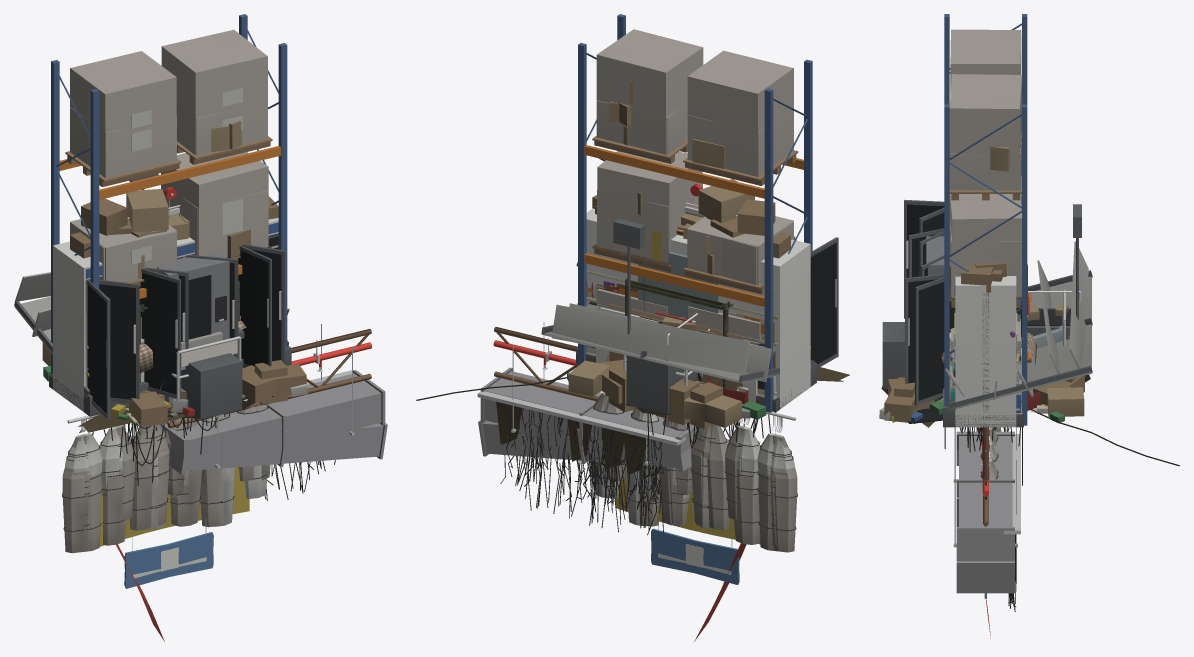
File: props.glb
The picture shows the model from 3 angles, left to right: view 1: azimuth 30°, elevation 25°; view 2: azimuth 150°, elevation 25°; view 3: azimuth 270°, elevation 25°; orthographic projection.
Parts seen in each view (by area): view 1: UF|ward|freezer_3, UF|ward|rack_9, UF|ward|rack_1, UF|ward|rack_8, UF|ward|rack_3, UF|ward|freezer_5, UF|ward|duct_31, UF|ward|hooks_9, UF|ward|duct_14, UF|ward|vending_1, UF|ward|freezer_1, UF|ward|duct_15 (+25 smaller); view 2: UF|ward|rack_9, UF|ward|rack_8, UF|ward|gondolax_24, UF|ward|rack_1, UF|ward|rack_3, UF|ward|freezer_3, UF|ward|hooks_9, UF|ward|duct_31, UF|ward|duct_15, UF|ward|rack_7, UF|ward|hooks_1, UF|ward|freezer_5 (+32 smaller); view 3: UF|ward|freezer_3, UF|ward|rack_1, UF|ward|gondolax_24, UF|ward|rack_8, UF|ward|rack_9, UF|ward|freezer_4, UF|ward|duct_15, UF|ward|rack_3, UF|ward|freezer_5, UF|ward|duct_14, UF|ward|duct_31, UF|ward|freezer_2 (+10 smaller).
Boxes of the visible parts, x1=… form: UF|ward|freezer_3: x1=53, y1=218, x2=284, y2=432; UF|ward|rack_9: x1=51, y1=14, x2=286, y2=374; UF|ward|rack_1: x1=51, y1=14, x2=287, y2=374; UF|ward|rack_8: x1=161, y1=29, x2=267, y2=155; UF|ward|rack_3: x1=70, y1=51, x2=250, y2=280; UF|ward|freezer_5: x1=86, y1=233, x2=278, y2=423; UF|ward|duct_31: x1=165, y1=324, x2=387, y2=474; UF|ward|hooks_9: x1=82, y1=406, x2=257, y2=530; UF|ward|duct_14: x1=162, y1=347, x2=385, y2=473; UF|ward|vending_1: x1=157, y1=252, x2=229, y2=403; UF|ward|freezer_1: x1=99, y1=245, x2=271, y2=367; UF|ward|duct_15: x1=162, y1=346, x2=385, y2=473; UF|ward|rack_9: x1=578, y1=14, x2=812, y2=412; UF|ward|rack_8: x1=596, y1=29, x2=724, y2=168; UF|ward|gondolax_24: x1=541, y1=303, x2=816, y2=386; UF|ward|rack_1: x1=578, y1=14, x2=812, y2=412; UF|ward|rack_3: x1=597, y1=50, x2=793, y2=314; UF|ward|freezer_3: x1=586, y1=208, x2=849, y2=409; UF|ward|hooks_9: x1=603, y1=397, x2=779, y2=529; UF|ward|duct_31: x1=478, y1=345, x2=693, y2=471; UF|ward|duct_15: x1=481, y1=323, x2=696, y2=464; UF|ward|rack_7: x1=597, y1=100, x2=793, y2=284; UF|ward|hooks_1: x1=639, y1=412, x2=797, y2=552; UF|ward|freezer_5: x1=810, y1=237, x2=838, y2=368; UF|ward|freezer_3: x1=915, y1=207, x2=1016, y2=427; UF|ward|rack_1: x1=944, y1=14, x2=1027, y2=425; UF|ward|gondolax_24: x1=879, y1=241, x2=1092, y2=427; UF|ward|rack_8: x1=949, y1=74, x2=1021, y2=190; UF|ward|rack_9: x1=944, y1=14, x2=1027, y2=424; UF|ward|freezer_4: x1=904, y1=200, x2=1016, y2=426; UF|ward|duct_15: x1=953, y1=431, x2=1017, y2=547; UF|ward|rack_3: x1=949, y1=29, x2=1021, y2=367; UF|ward|freezer_5: x1=904, y1=199, x2=1016, y2=407; UF|ward|duct_14: x1=953, y1=427, x2=1016, y2=561; UF|ward|duct_31: x1=953, y1=427, x2=1016, y2=593; UF|ward|freezer_2: x1=955, y1=286, x2=1016, y2=426.
Size of the model in its own units: 4.84 by 8.42 by 3.93.
Materials: 140 (59 with a texture image).
